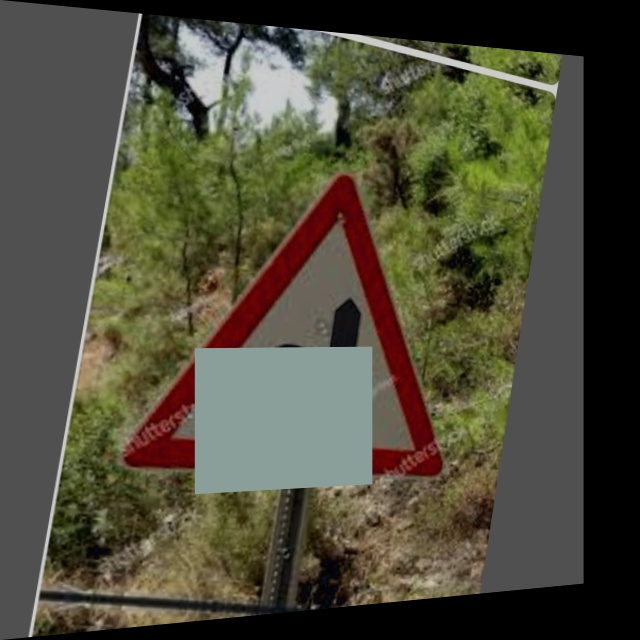Right_Reverse_Bend: (121, 132, 483, 501)
